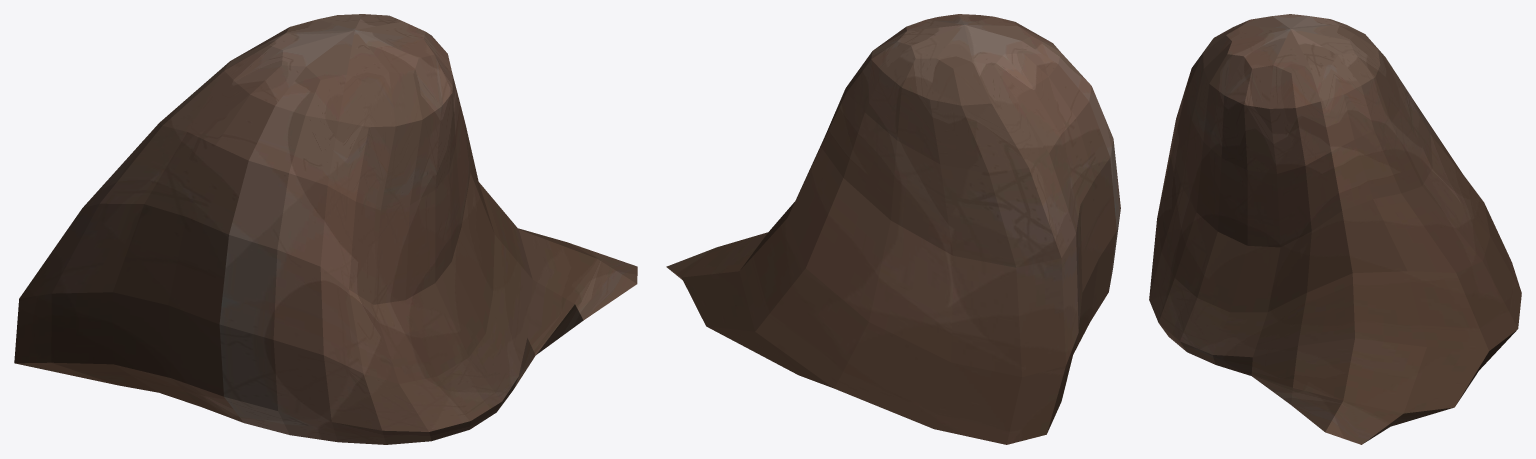
The model's file is Rock 3-4.fbx.
The picture shows the model from 3 angles, left to right: view 1: azimuth 30°, elevation 25°; view 2: azimuth 150°, elevation 25°; view 3: azimuth 270°, elevation 25°; orthographic projection. The views are drawn at different scales.
Visible parts, largest first — view 1: Sphere; view 2: Sphere; view 3: Sphere.
Part boxes in pixels (x1,y1,x2,y2): Sphere: (14, 14, 637, 444); Sphere: (666, 14, 1120, 444); Sphere: (1149, 14, 1521, 444).
Size of the model in its own units: 289 by 191 by 204.
